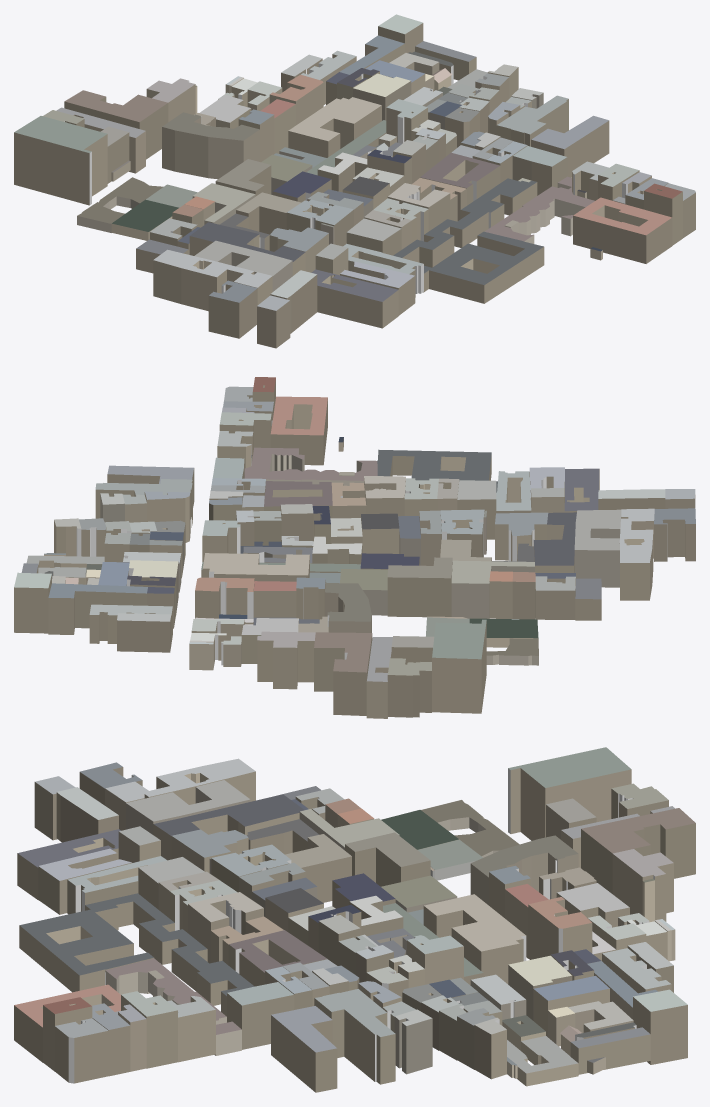
The picture shows the model from 3 angles, top to bottom: view 1: azimuth 30°, elevation 25°; view 2: azimuth 150°, elevation 25°; view 3: azimuth 270°, elevation 25°; orthographic projection. The views are drawn at different scales.
Visible parts, largest first — view 1: tuile; view 2: tuile; view 3: tuile.
Part boxes in pixels (box(x1,y1,x2,y2)): tuile: box(14, 14, 695, 348); tuile: box(14, 377, 695, 718); tuile: box(14, 747, 695, 1092).
Size of the model in its own units: 278 by 28.8 by 275.
